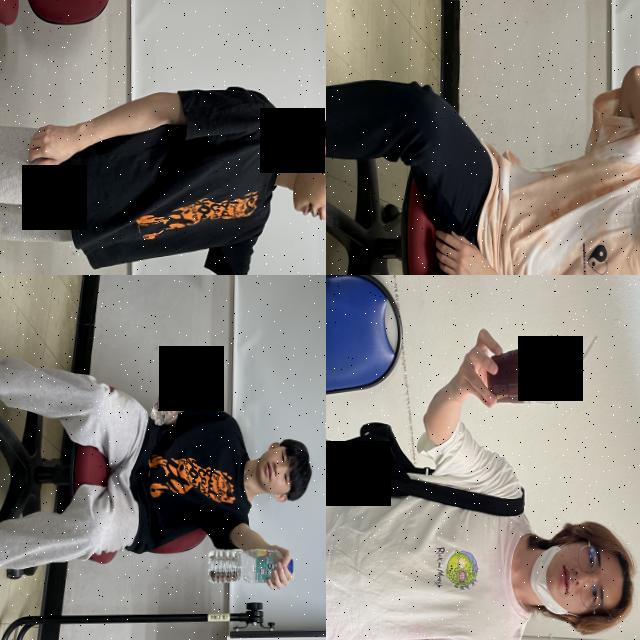bottle: (203, 544, 294, 586), (148, 378, 205, 428)
cup: (482, 336, 558, 406)
